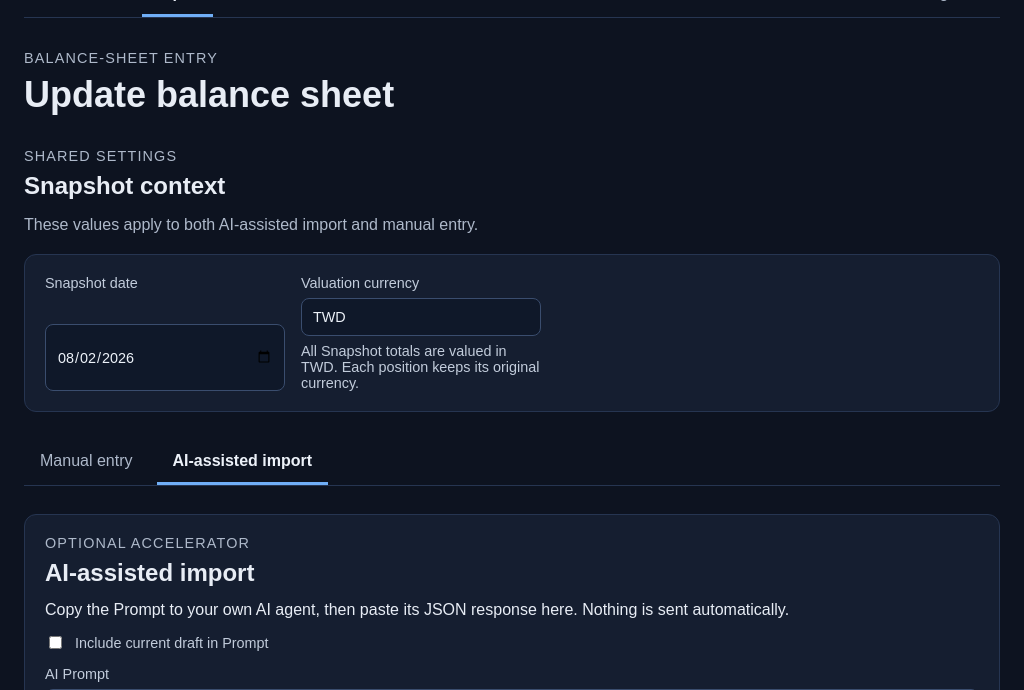
Test: Balance-sheet entry › shows the official FX rate that will be used before save
The image size is (1024, 690).
Click the tab "Manual entry" at (86, 462), box [24,440,148,485]
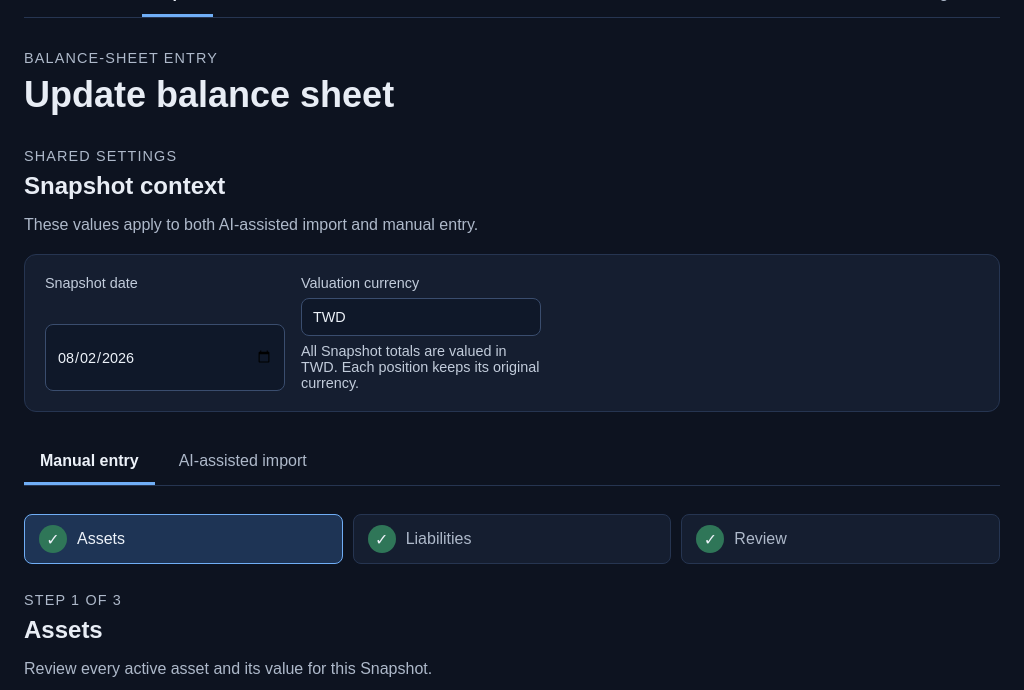
Click the button "✓ Review" at (761, 538), box [681,514,1000,564]
(page scrolled)
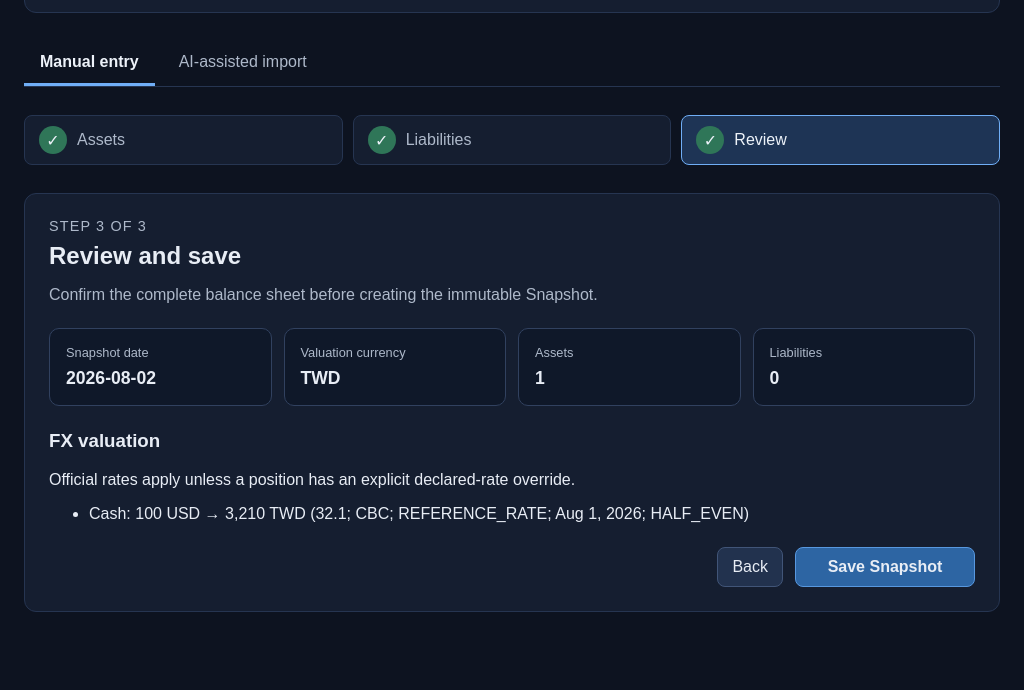
Expected: the list item "Cash: 100 USD → 3,210 TWD (32.1; CBC; REFERENCE_RATE; Aug 1, 2026; HALF_EVEN)" is shown, [89,505,749,522]
